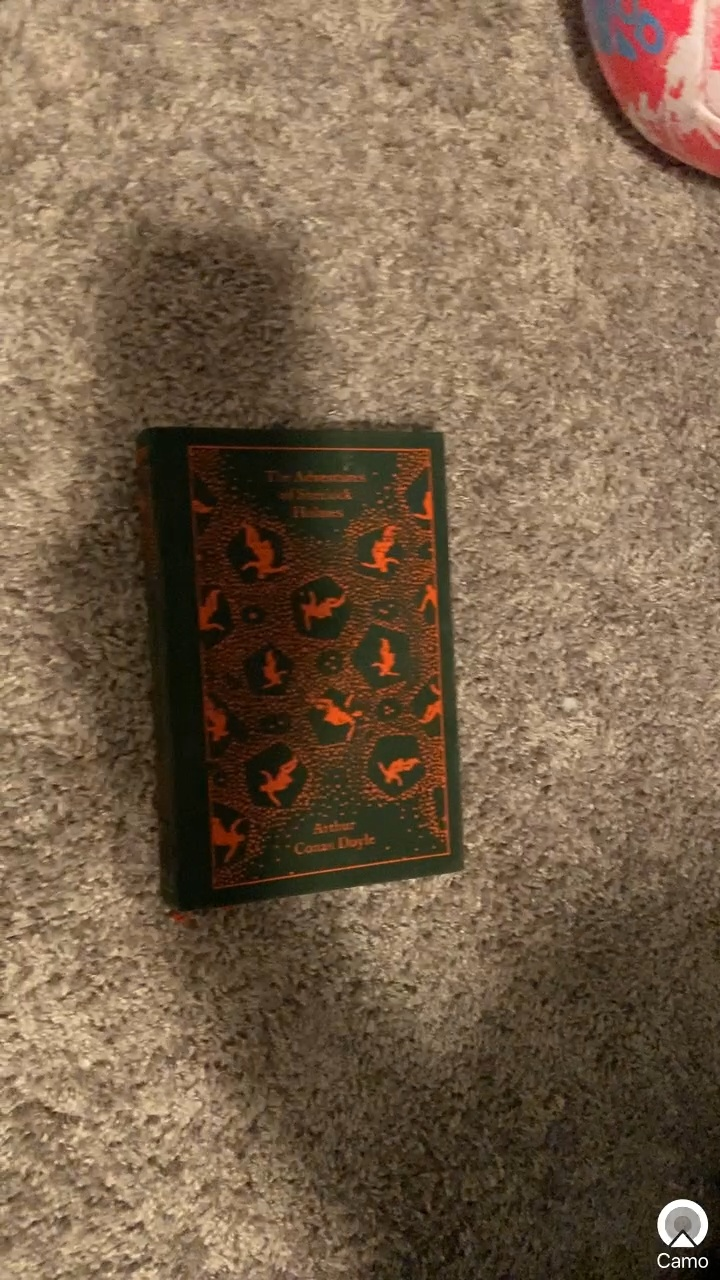Book: (128, 401, 496, 920)
